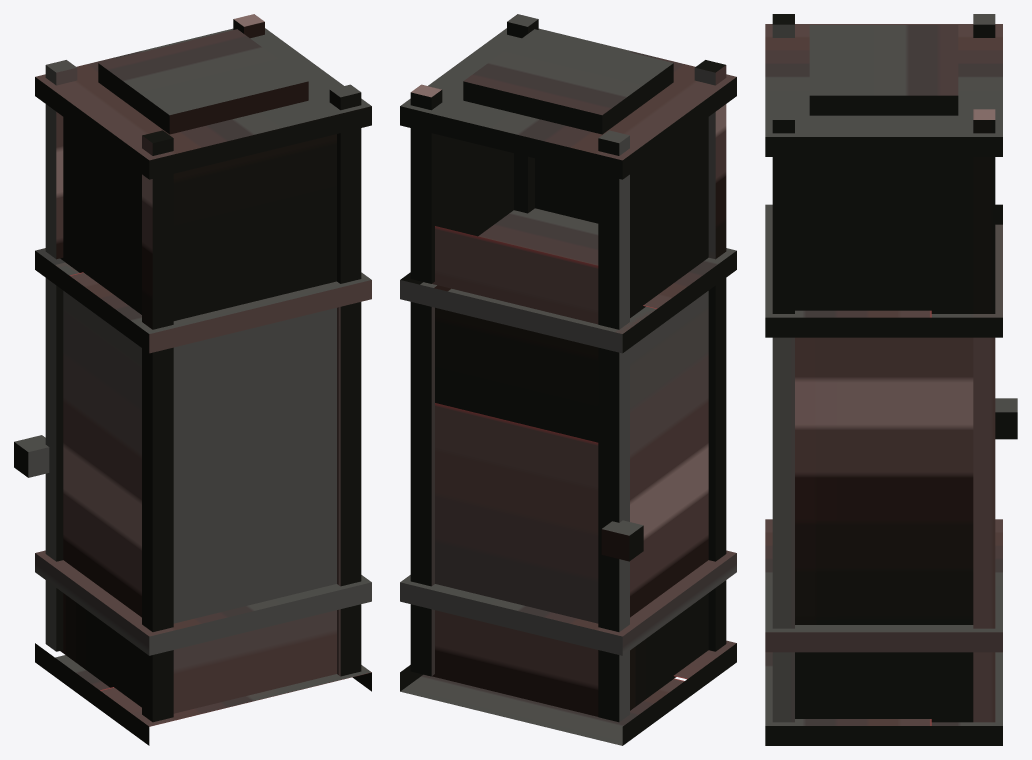
File: Reloj.obj
The picture shows the model from 3 angles, left to right: view 1: azimuth 30°, elevation 25°; view 2: azimuth 150°, elevation 25°; view 3: azimuth 270°, elevation 25°; orthographic projection. The views are drawn at different scales.
Visible parts, largest first — view 1: Object_64; view 2: Object_64; view 3: Object_64.
Part boxes in pixels (x1,y1,x2,y2): Object_64: [14, 14, 371, 745]; Object_64: [400, 14, 736, 745]; Object_64: [765, 14, 1017, 745].
Size of the model in its own units: 0.5625 by 1.38 by 0.5.
